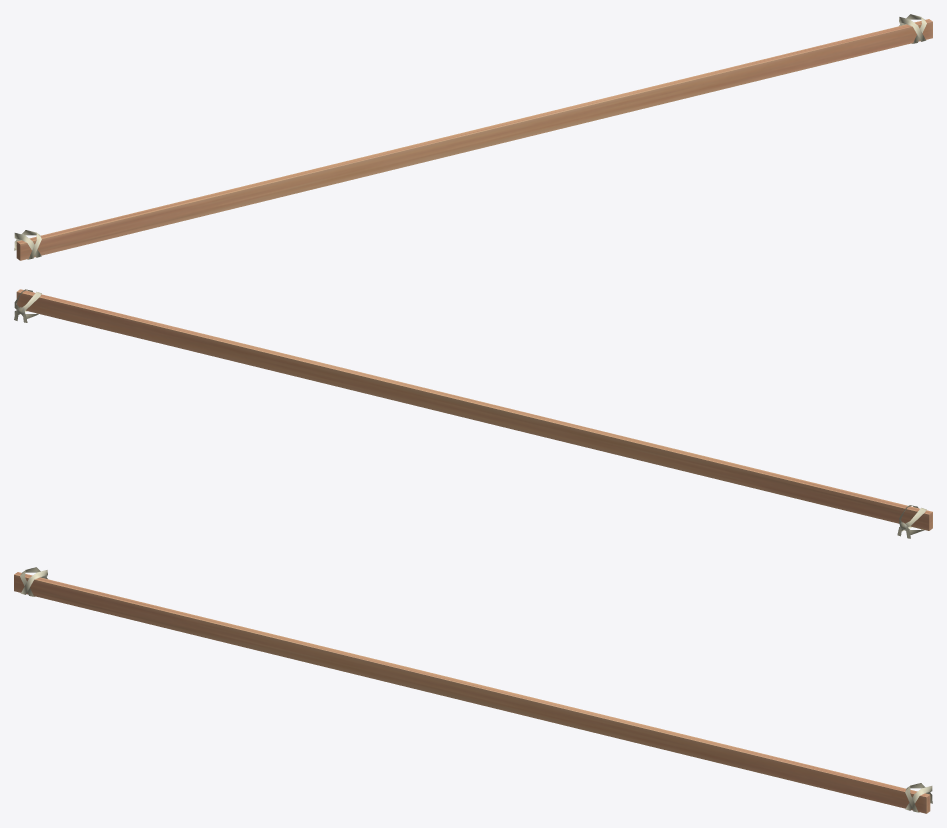
Rendered from jsf_2P_s03_DisplayCabinet_01.fbx.
3 renders of one model, top to bottom at view 1: azimuth 30°, elevation 25°; view 2: azimuth 150°, elevation 25°; view 3: azimuth 330°, elevation 25°, orthographic.
Visible parts, largest first — view 1: jsf_2P_s03_DisplayCabinet_01; view 2: jsf_2P_s03_DisplayCabinet_01; view 3: jsf_2P_s03_DisplayCabinet_01.
Boxes of the visible parts, left/top/right/bottom form: jsf_2P_s03_DisplayCabinet_01: left=14, top=14, right=932, bottom=260; jsf_2P_s03_DisplayCabinet_01: left=14, top=289, right=932, bottom=538; jsf_2P_s03_DisplayCabinet_01: left=14, top=567, right=932, bottom=813.
Bounding box in the file's own units: 258 × 6.37 × 7.64.
